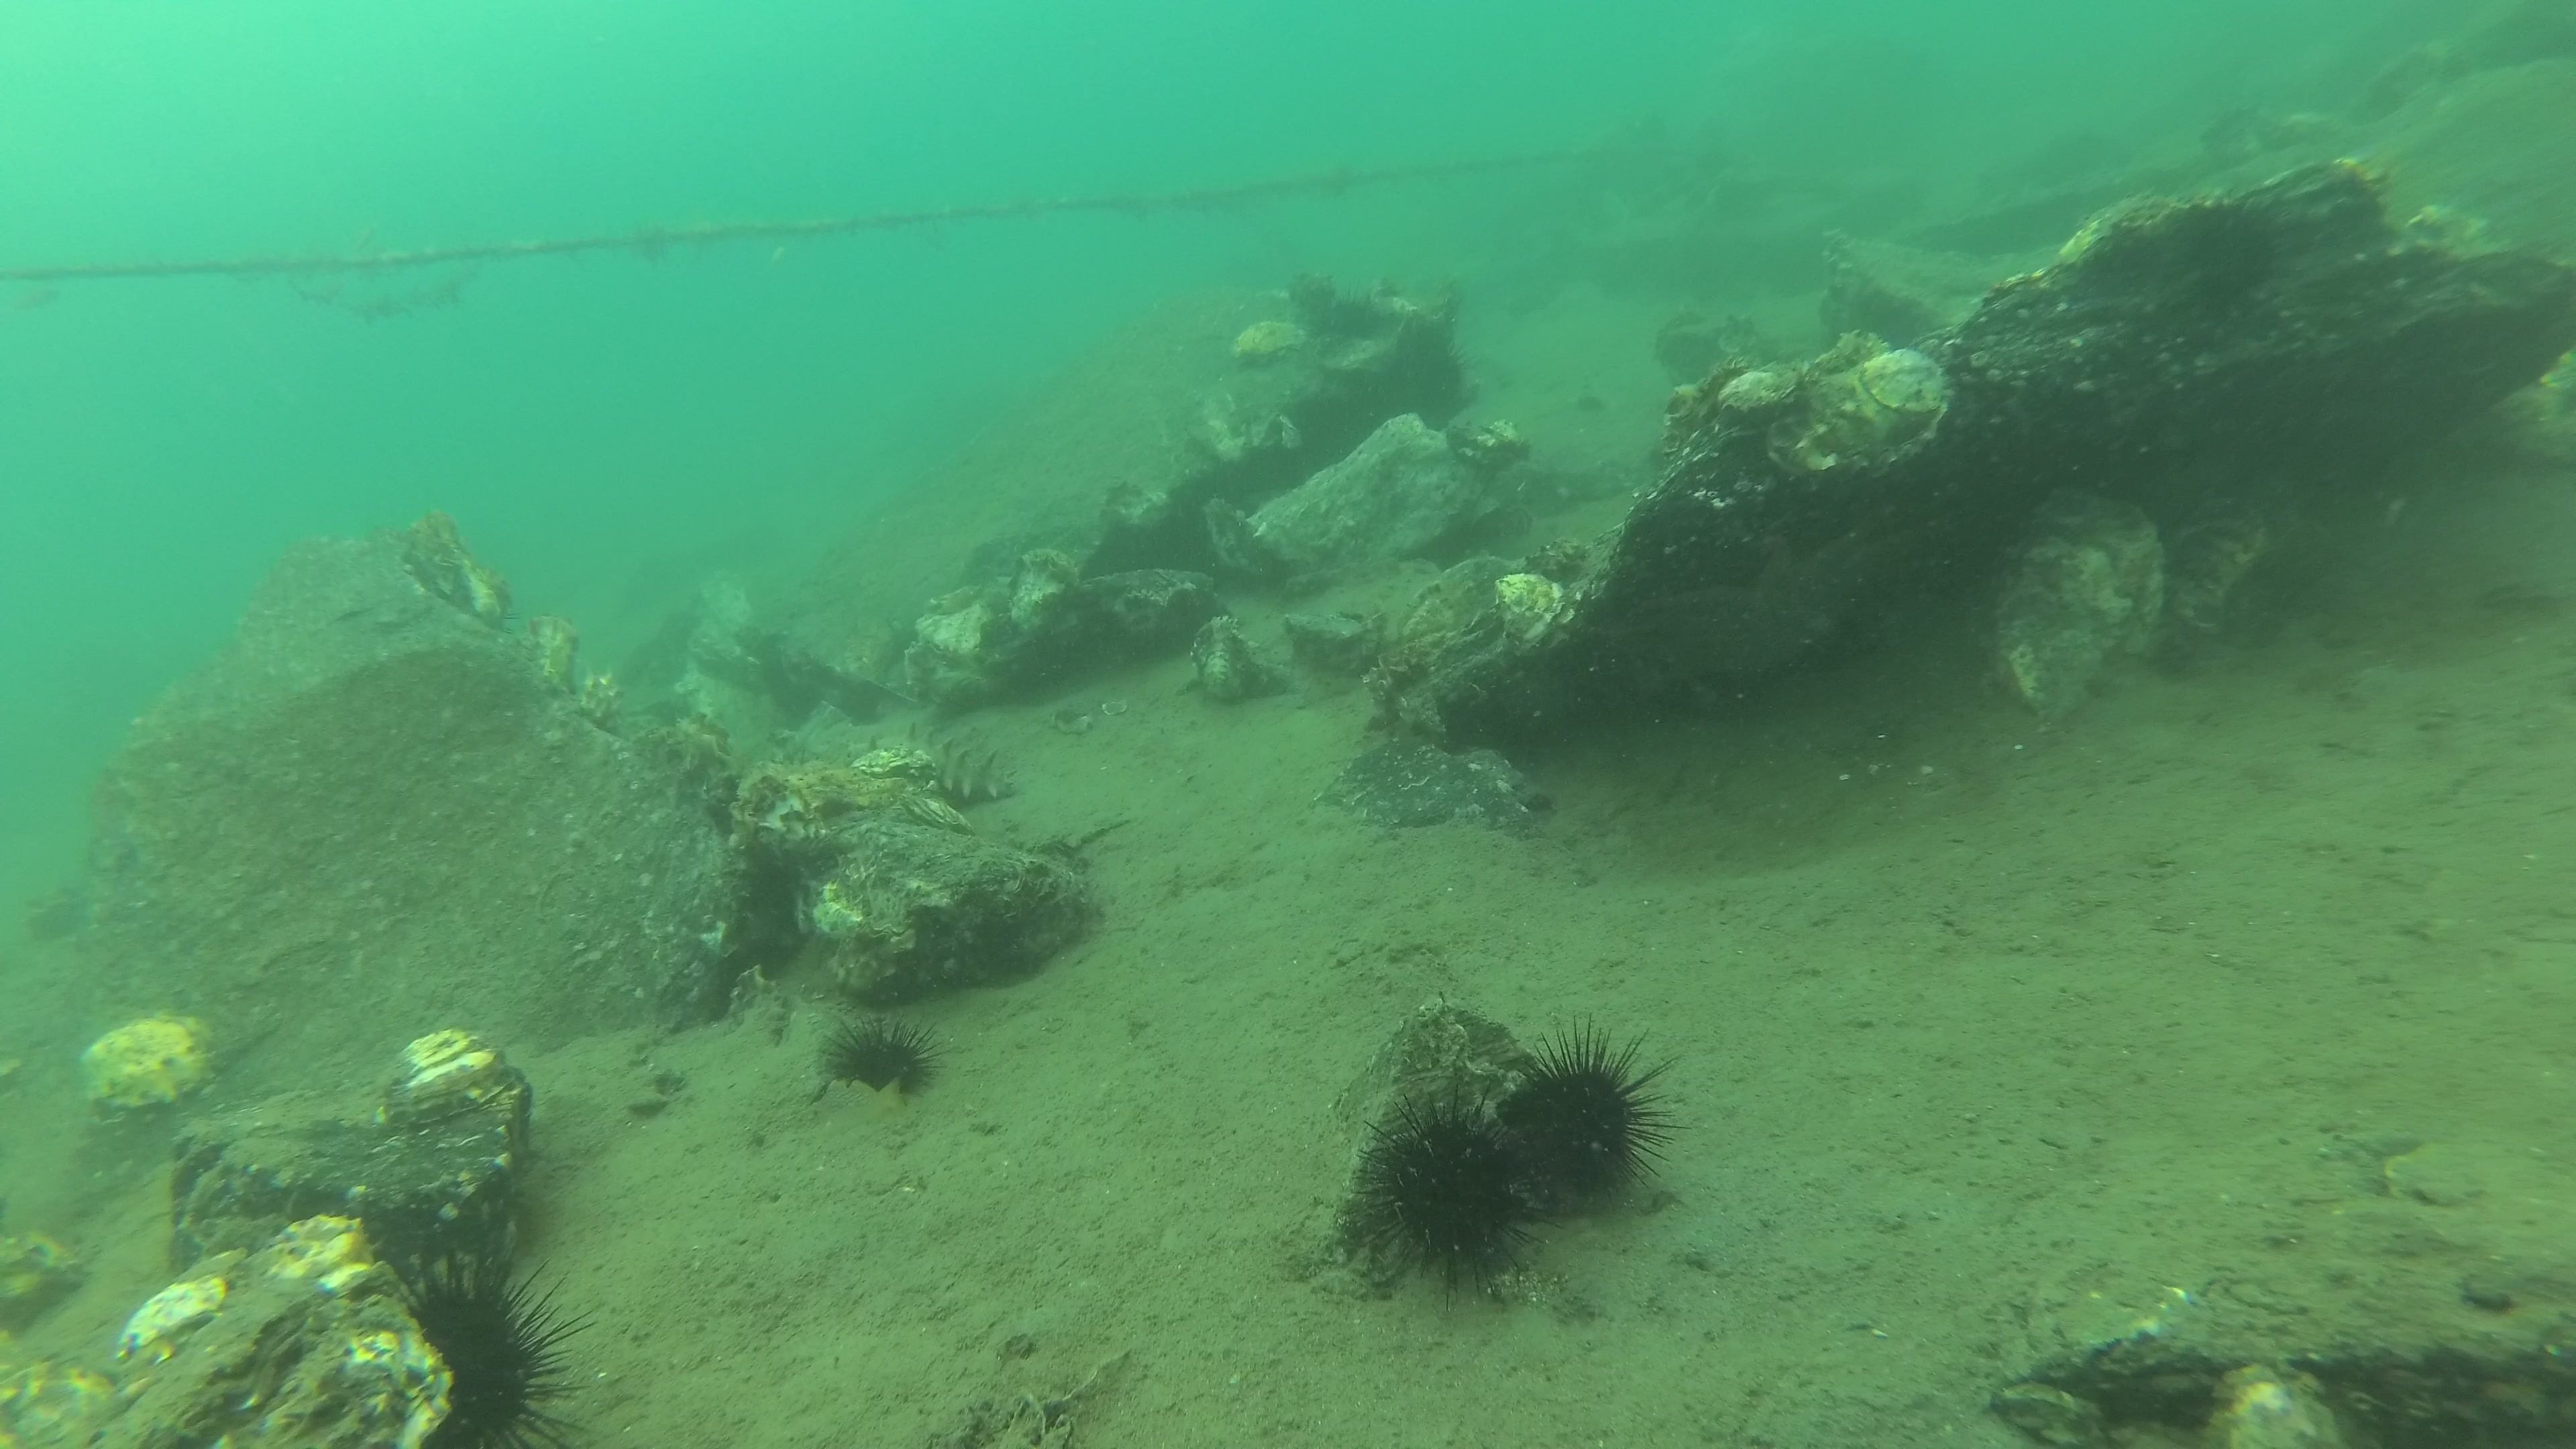echinus: (1350, 1083, 1568, 1311), (396, 1235, 603, 1449), (1502, 1012, 1693, 1201), (816, 1010, 954, 1102), (2181, 196, 2279, 299), (1302, 281, 1375, 338), (1428, 343, 1474, 409)
holothurian: (844, 720, 1019, 803)
starfish: (1622, 517, 1884, 695)
